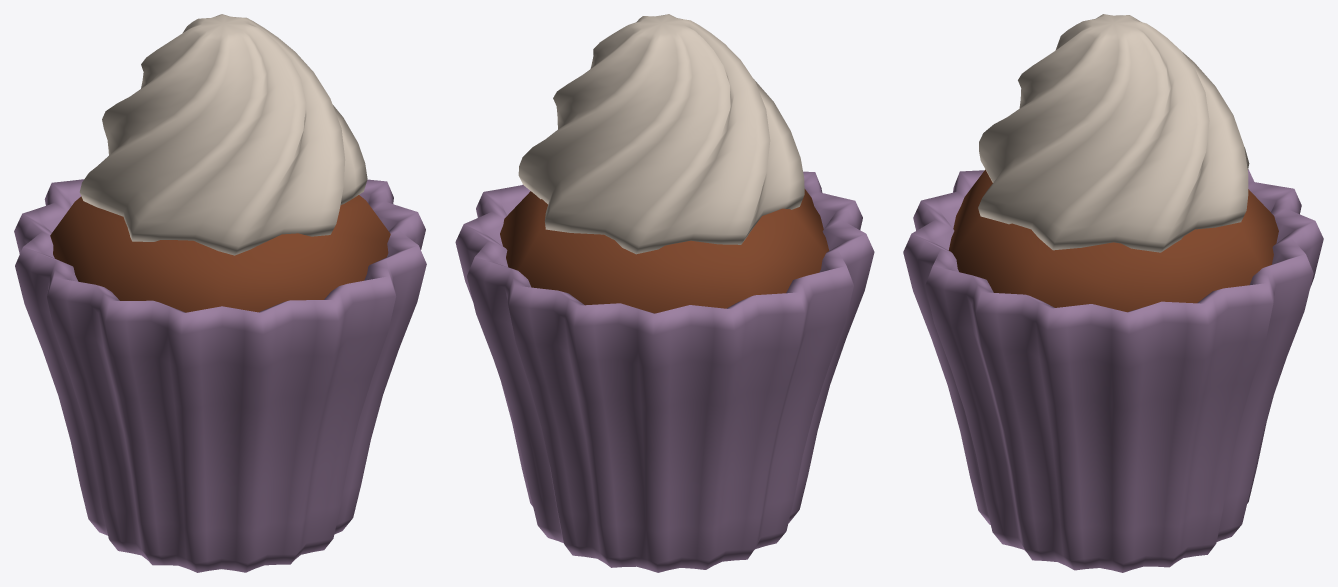
File: SM_muffin_02.glb
The picture shows the model from 3 angles, left to right: view 1: azimuth 30°, elevation 25°; view 2: azimuth 150°, elevation 25°; view 3: azimuth 270°, elevation 25°; orthographic projection.
Parts seen in each view (by area): view 1: SM_muffin_02; view 2: SM_muffin_02; view 3: SM_muffin_02.
Boxes of the visible parts, bbox=[...] form: SM_muffin_02: bbox=[14, 14, 426, 572]; SM_muffin_02: bbox=[455, 14, 874, 572]; SM_muffin_02: bbox=[903, 14, 1323, 572].
Bounding box in the file's own units: 0.1358 × 0.1784 × 0.1358.
Materials: 1 (1 with a texture image).
